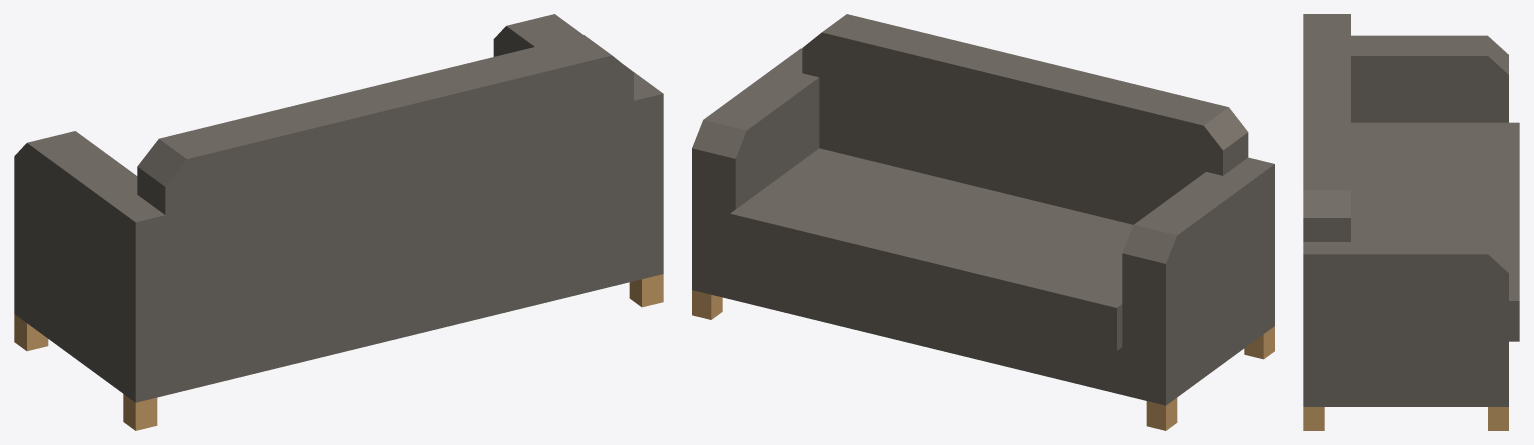
Rendered from sofa.obj.
3 views of the same model, side by side, from view 1: azimuth 30°, elevation 25°; view 2: azimuth 150°, elevation 25°; view 3: azimuth 270°, elevation 25° (orthographic). The views are drawn at different scales.
Visible parts, largest first — view 1: loungeSofa; view 2: loungeSofa; view 3: loungeSofa.
Boxes of the visible parts, bbox=[...] form: loungeSofa: bbox=[14, 14, 663, 430]; loungeSofa: bbox=[692, 14, 1274, 430]; loungeSofa: bbox=[1303, 14, 1519, 430].
Bounding box in the file's own units: 9.8 × 4.6 × 4.1.
